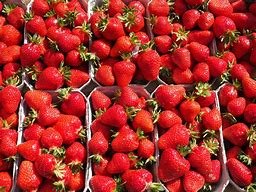Fresa: (159, 147, 190, 185), (50, 114, 86, 145), (226, 157, 255, 192), (157, 125, 194, 151), (136, 46, 162, 82), (222, 121, 254, 149), (153, 84, 185, 111), (17, 160, 43, 192), (57, 91, 87, 118), (112, 56, 137, 88), (122, 167, 153, 192), (36, 65, 67, 90), (112, 127, 139, 155), (100, 104, 128, 130), (110, 33, 138, 58), (213, 14, 237, 43), (1, 81, 21, 115), (24, 13, 50, 39), (100, 17, 127, 42), (24, 90, 54, 112), (64, 141, 86, 170), (154, 109, 184, 130), (231, 32, 253, 60), (36, 154, 60, 179), (90, 173, 121, 192), (88, 131, 109, 159), (203, 107, 223, 136), (41, 127, 63, 153), (124, 8, 146, 34), (193, 84, 216, 108), (5, 3, 27, 28), (90, 89, 111, 115), (20, 42, 41, 68), (171, 46, 192, 72), (139, 134, 157, 164), (188, 40, 211, 63), (107, 152, 131, 174), (1, 24, 25, 46), (93, 62, 115, 86), (90, 8, 107, 39), (187, 28, 216, 46), (180, 97, 200, 123), (183, 169, 205, 192), (205, 56, 228, 78), (18, 139, 42, 160), (1, 133, 19, 161), (88, 39, 112, 60), (120, 86, 139, 112), (228, 94, 247, 120), (219, 81, 238, 107), (3, 61, 25, 83), (21, 121, 44, 142), (54, 34, 82, 51), (65, 68, 90, 87), (150, 15, 172, 36), (42, 48, 66, 67), (64, 49, 87, 68), (153, 34, 174, 54), (205, 1, 235, 15), (182, 8, 201, 29), (104, 1, 128, 17), (241, 76, 256, 99), (70, 10, 89, 27)
